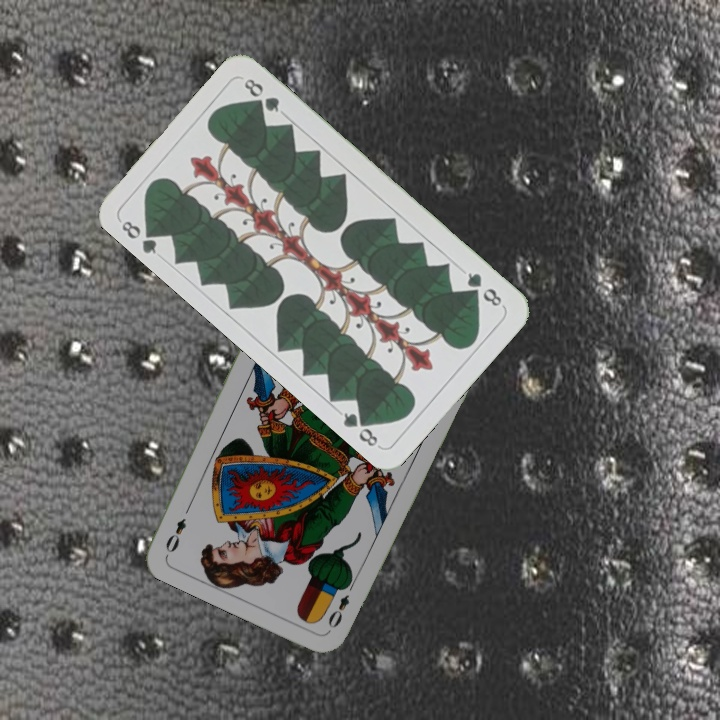EO: (324, 576, 358, 631)
G8: (462, 268, 507, 310), (117, 216, 163, 257)
